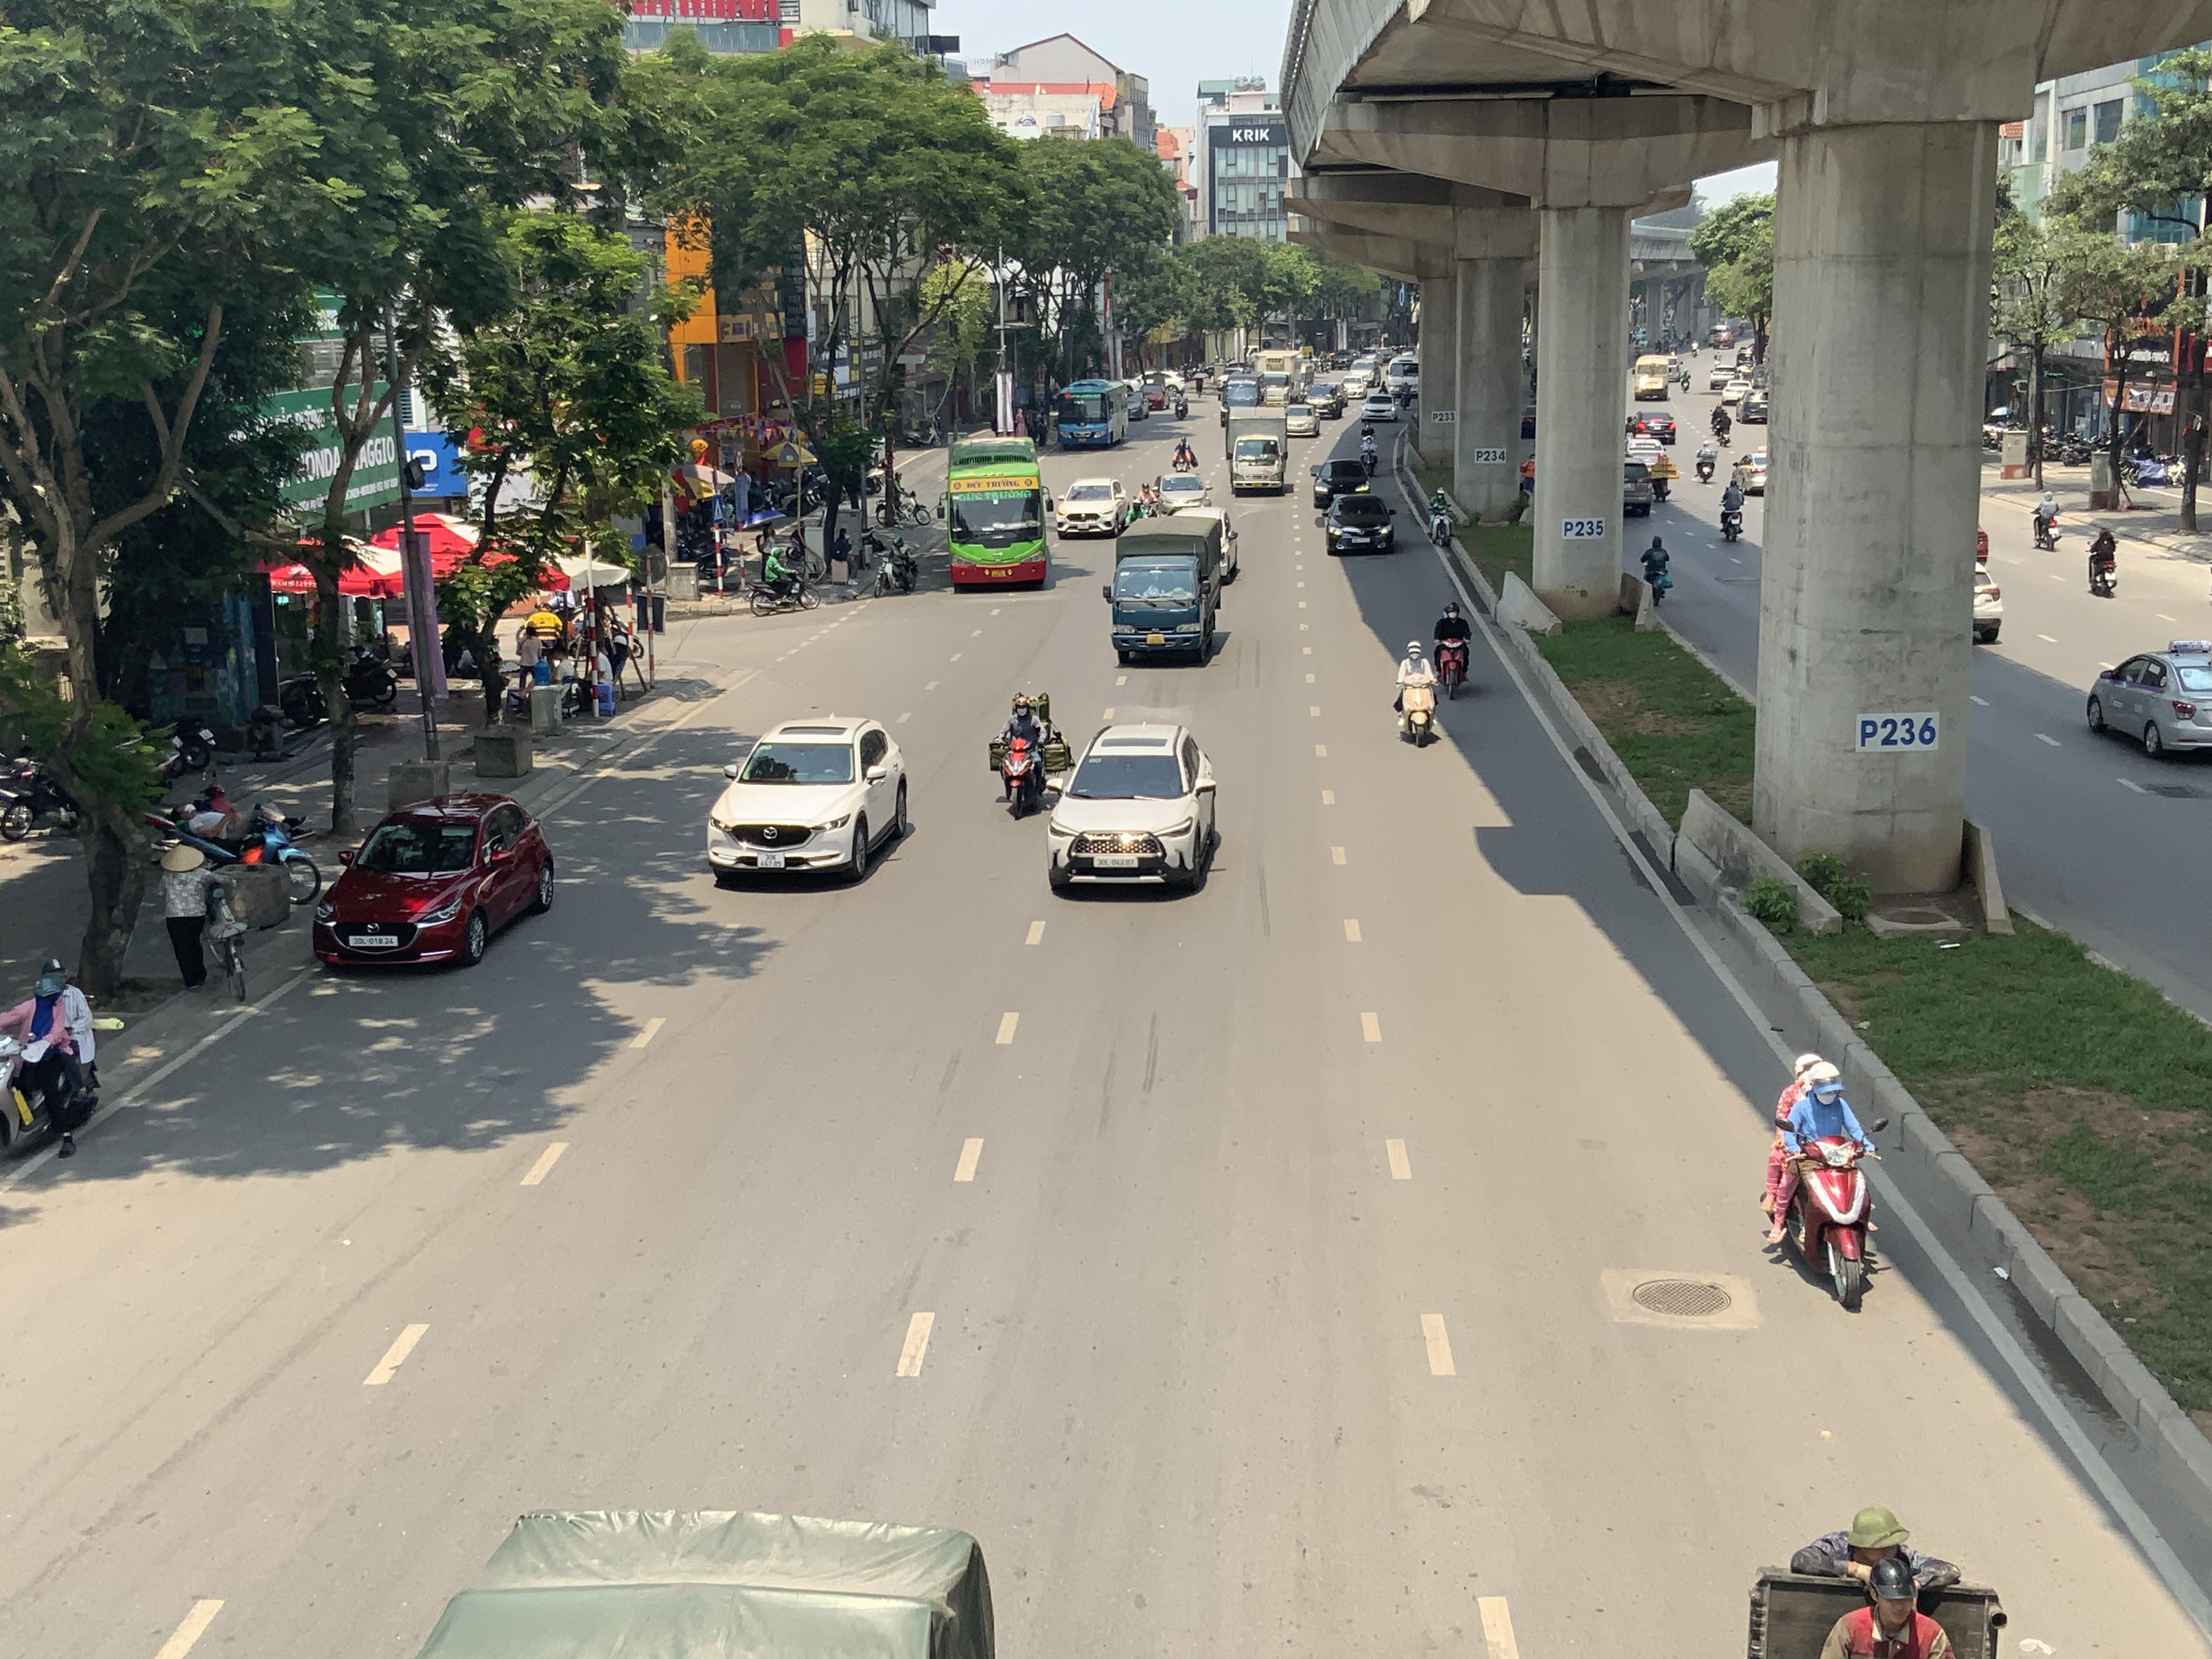BSD: (1094, 856, 1137, 868), (348, 936, 399, 946)
BSV: (758, 852, 784, 868)
bus: (944, 432, 1050, 589), (1052, 376, 1129, 450), (1221, 371, 1266, 423)
car: (312, 791, 557, 972), (705, 718, 913, 887), (1043, 721, 1221, 897), (2085, 641, 2212, 760), (1322, 490, 1399, 554), (1054, 476, 1132, 537), (1148, 469, 1212, 516), (1312, 457, 1371, 507), (1731, 450, 1766, 497), (1632, 411, 1677, 444), (1282, 401, 1322, 437), (1305, 383, 1343, 420), (1360, 394, 1399, 422)
motorbike: (1742, 1507, 2010, 1659), (1761, 1053, 1885, 1314), (0, 955, 101, 1164), (172, 802, 320, 904), (160, 842, 253, 1002), (0, 730, 85, 843), (993, 690, 1054, 819), (1393, 638, 1440, 746), (749, 549, 815, 617), (1432, 599, 1474, 697), (880, 530, 920, 596), (2085, 523, 2120, 598), (1641, 533, 1674, 606), (1423, 484, 1458, 549), (2031, 486, 2062, 549), (1717, 476, 1747, 542), (1695, 437, 1719, 483), (1359, 436, 1379, 476), (1172, 436, 1195, 472), (1717, 411, 1733, 444), (1174, 389, 1190, 420)
truck: (1104, 509, 1235, 664), (1226, 406, 1291, 495), (1254, 349, 1303, 406)
